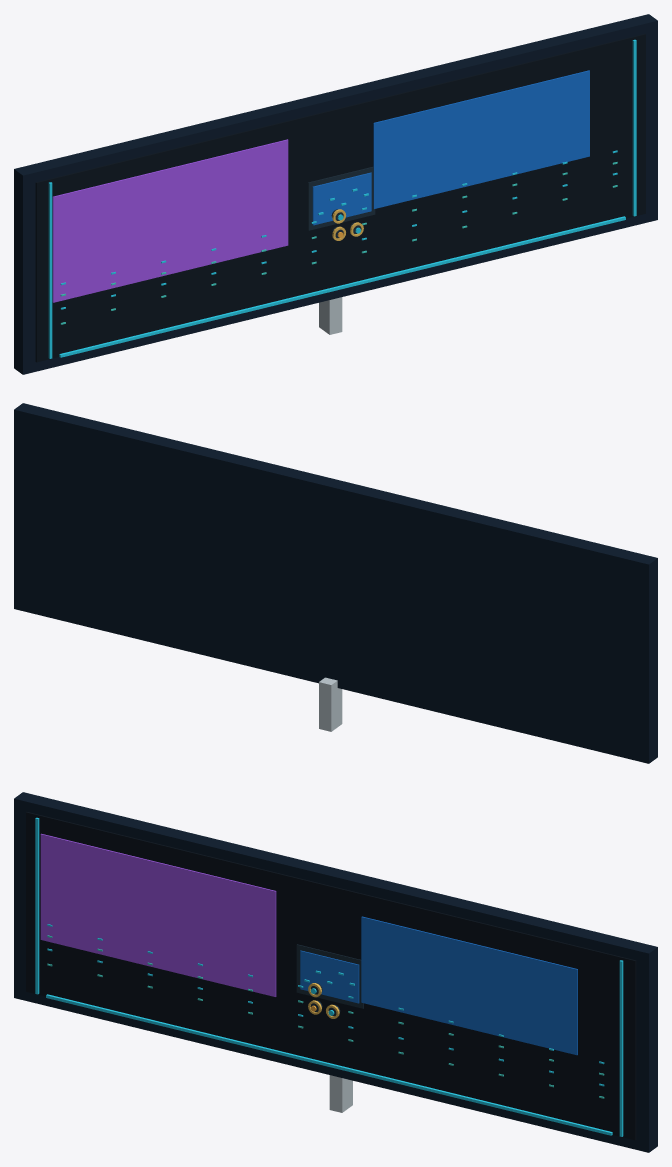
File: 69_L83_OrbitalPowerSCADA.fbx
3 views of the same model, one above another, from view 1: azimuth 30°, elevation 25°; view 2: azimuth 150°, elevation 25°; view 3: azimuth 330°, elevation 25° (orthographic).
Parts seen in each view (by area): view 1: OrbitalPowerSCADA, OrbitalPowerSCADA_Part_0057, OrbitalPowerSCADA_Part_0056; view 2: OrbitalPowerSCADA; view 3: OrbitalPowerSCADA, OrbitalPowerSCADA_Part_0057, OrbitalPowerSCADA_Part_0056.
Boxes of the visible parts, x1,y1,x2,y2 form: OrbitalPowerSCADA: (14,14,657,374); OrbitalPowerSCADA_Part_0057: (312,172,371,225); OrbitalPowerSCADA_Part_0056: (308,167,375,230); OrbitalPowerSCADA: (14,403,657,763); OrbitalPowerSCADA: (14,792,657,1152); OrbitalPowerSCADA_Part_0057: (300,950,359,1003); OrbitalPowerSCADA_Part_0056: (296,944,363,1008).
Size of the model in its own units: 610 by 219 by 41.05.
